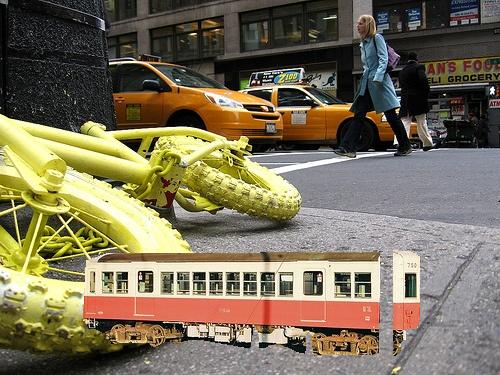tampered: (84, 251, 420, 356)
